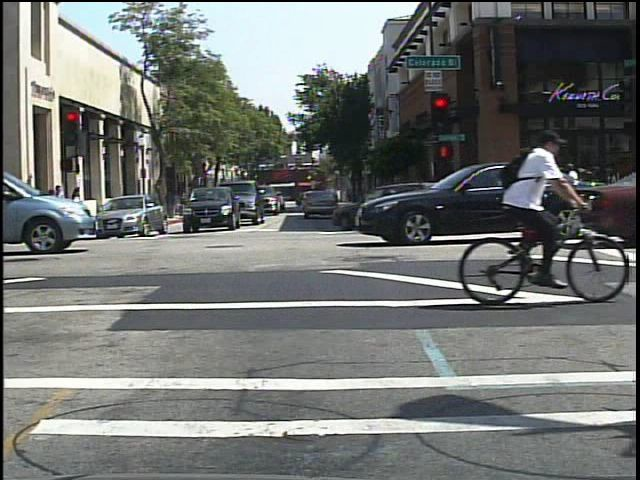person: (483, 121, 576, 300)
